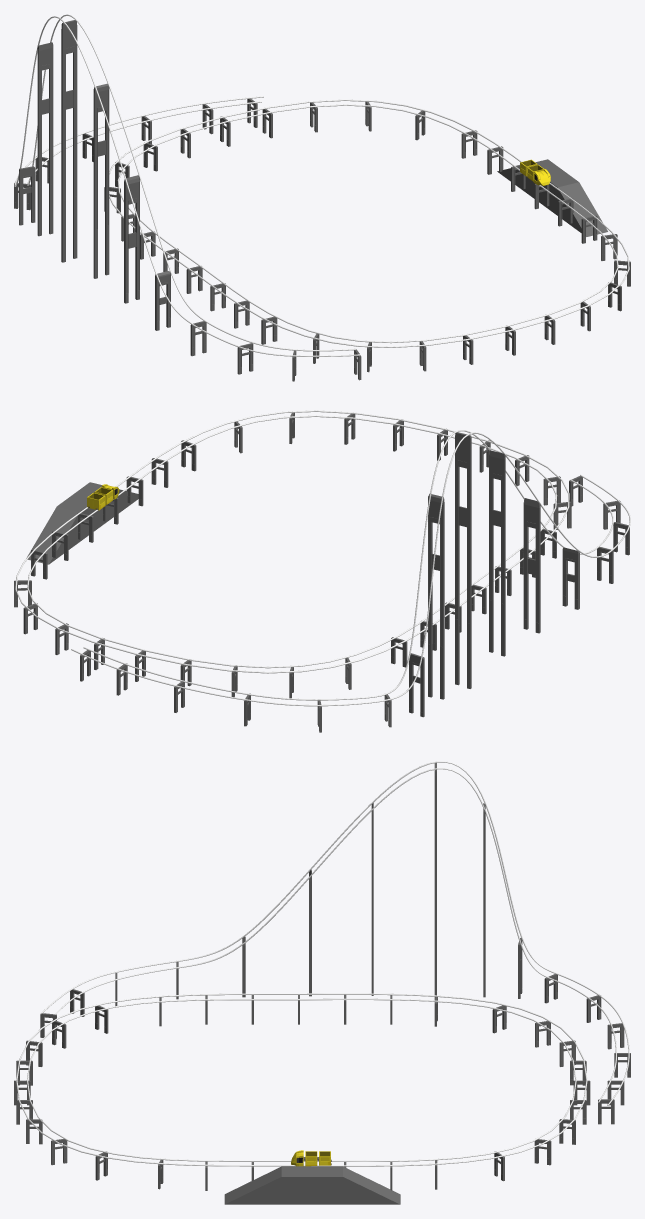
The model's file is Train.fbx.
The picture shows the model from 3 angles, top to bottom: view 1: azimuth 30°, elevation 25°; view 2: azimuth 150°, elevation 25°; view 3: azimuth 270°, elevation 25°; orthographic projection. The views are drawn at different scales.
Parts seen in each view (by area): view 1: ZHolder.039, Cube, BezierCircleOut, BezierCircleIn, ZHolder.047, ZHolder.040, NurbsPathOut, NurbsPathIn, ZHolder.041, ZHolder.038, ZHolder.042, Body; view 2: ZHolder.039, Cube, BezierCircleOut, BezierCircleIn, ZHolder.040, ZHolder.047, NurbsPathOut, ZHolder.041, NurbsPathIn, ZHolder.042, ZHolder.038, Body; view 3: Cube, BezierCircleOut, BezierCircleIn, NurbsPathOut, NurbsPathIn, ZHolder.039.
Boxes of the visible parts, left/top/right/bottom form: ZHolder.039: left=61, top=20, right=77, bottom=262; Cube: left=497, top=159, right=607, bottom=236; BezierCircleOut: left=109, top=99, right=629, bottom=347; BezierCircleIn: left=117, top=104, right=618, bottom=343; ZHolder.047: left=37, top=42, right=53, bottom=236; ZHolder.040: left=93, top=83, right=109, bottom=278; NurbsPathOut: left=14, top=16, right=360, bottom=356; NurbsPathIn: left=27, top=14, right=356, bottom=351; ZHolder.041: left=124, top=175, right=139, bottom=303; ZHolder.038: left=19, top=166, right=35, bottom=225; ZHolder.042: left=155, top=271, right=170, bottom=330; Body: left=520, top=159, right=550, bottom=185; ZHolder.039: left=455, top=432, right=471, bottom=688; Cube: left=27, top=482, right=138, bottom=564; BezierCircleOut: left=15, top=410, right=569, bottom=673; BezierCircleIn: left=27, top=415, right=557, bottom=668; ZHolder.040: left=489, top=450, right=505, bottom=656; ZHolder.047: left=428, top=493, right=444, bottom=699; NurbsPathOut: left=71, top=432, right=630, bottom=706; ZHolder.041: left=523, top=498, right=540, bottom=633; NurbsPathIn: left=83, top=430, right=613, bottom=700; ZHolder.042: left=562, top=547, right=579, bottom=609; ZHolder.038: left=409, top=653, right=424, bottom=717; Body: left=87, top=484, right=119, bottom=510; Cube: left=224, top=1166, right=400, bottom=1204; BezierCircleOut: left=16, top=993, right=587, bottom=1166; BezierCircleIn: left=26, top=998, right=576, bottom=1161; NurbsPathOut: left=40, top=761, right=629, bottom=1105; NurbsPathIn: left=54, top=768, right=616, bottom=1102; ZHolder.039: left=434, top=763, right=436, bottom=1000.
Size of the model in its own units: 10901 by 5660 by 13387.
Materials: 3 (1 with a texture image).
